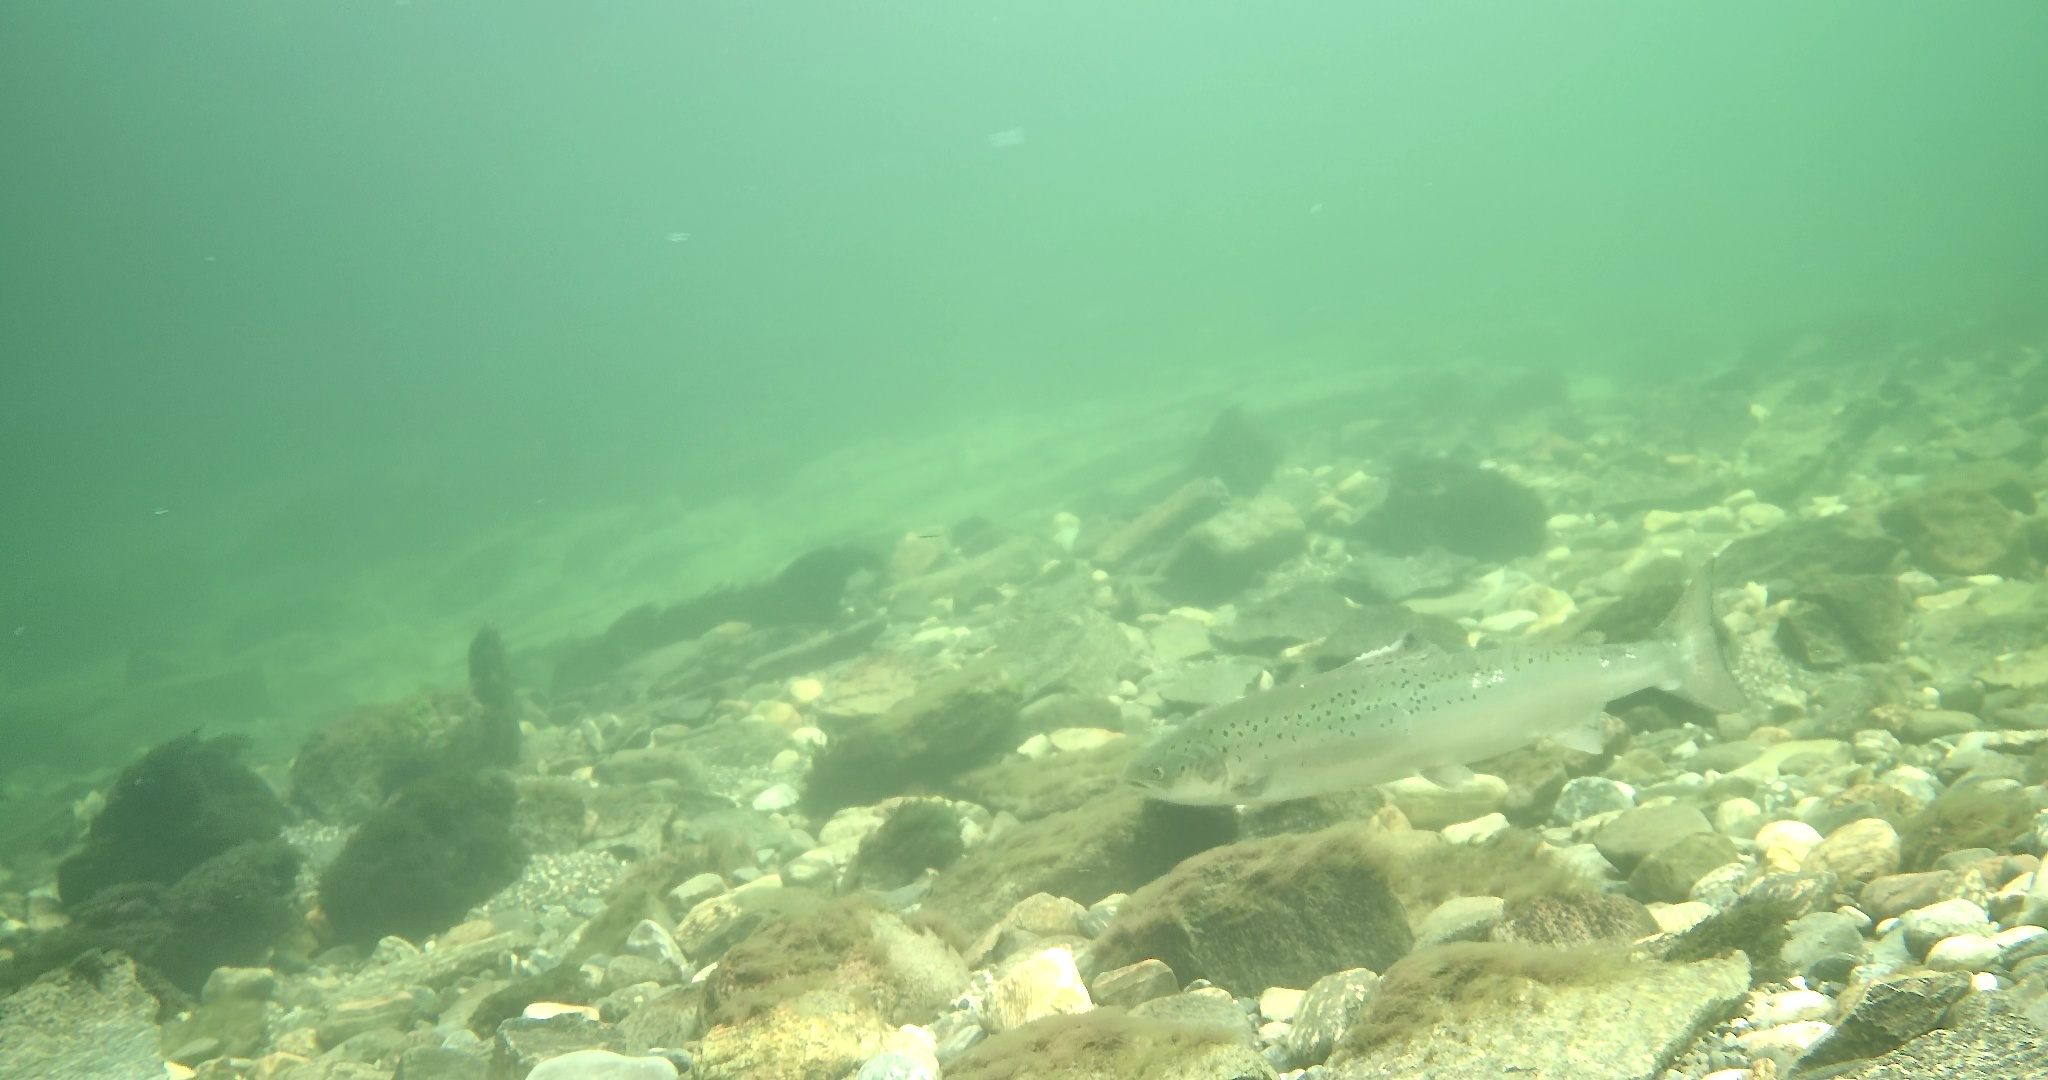salmon: (1124, 557, 1755, 808)
